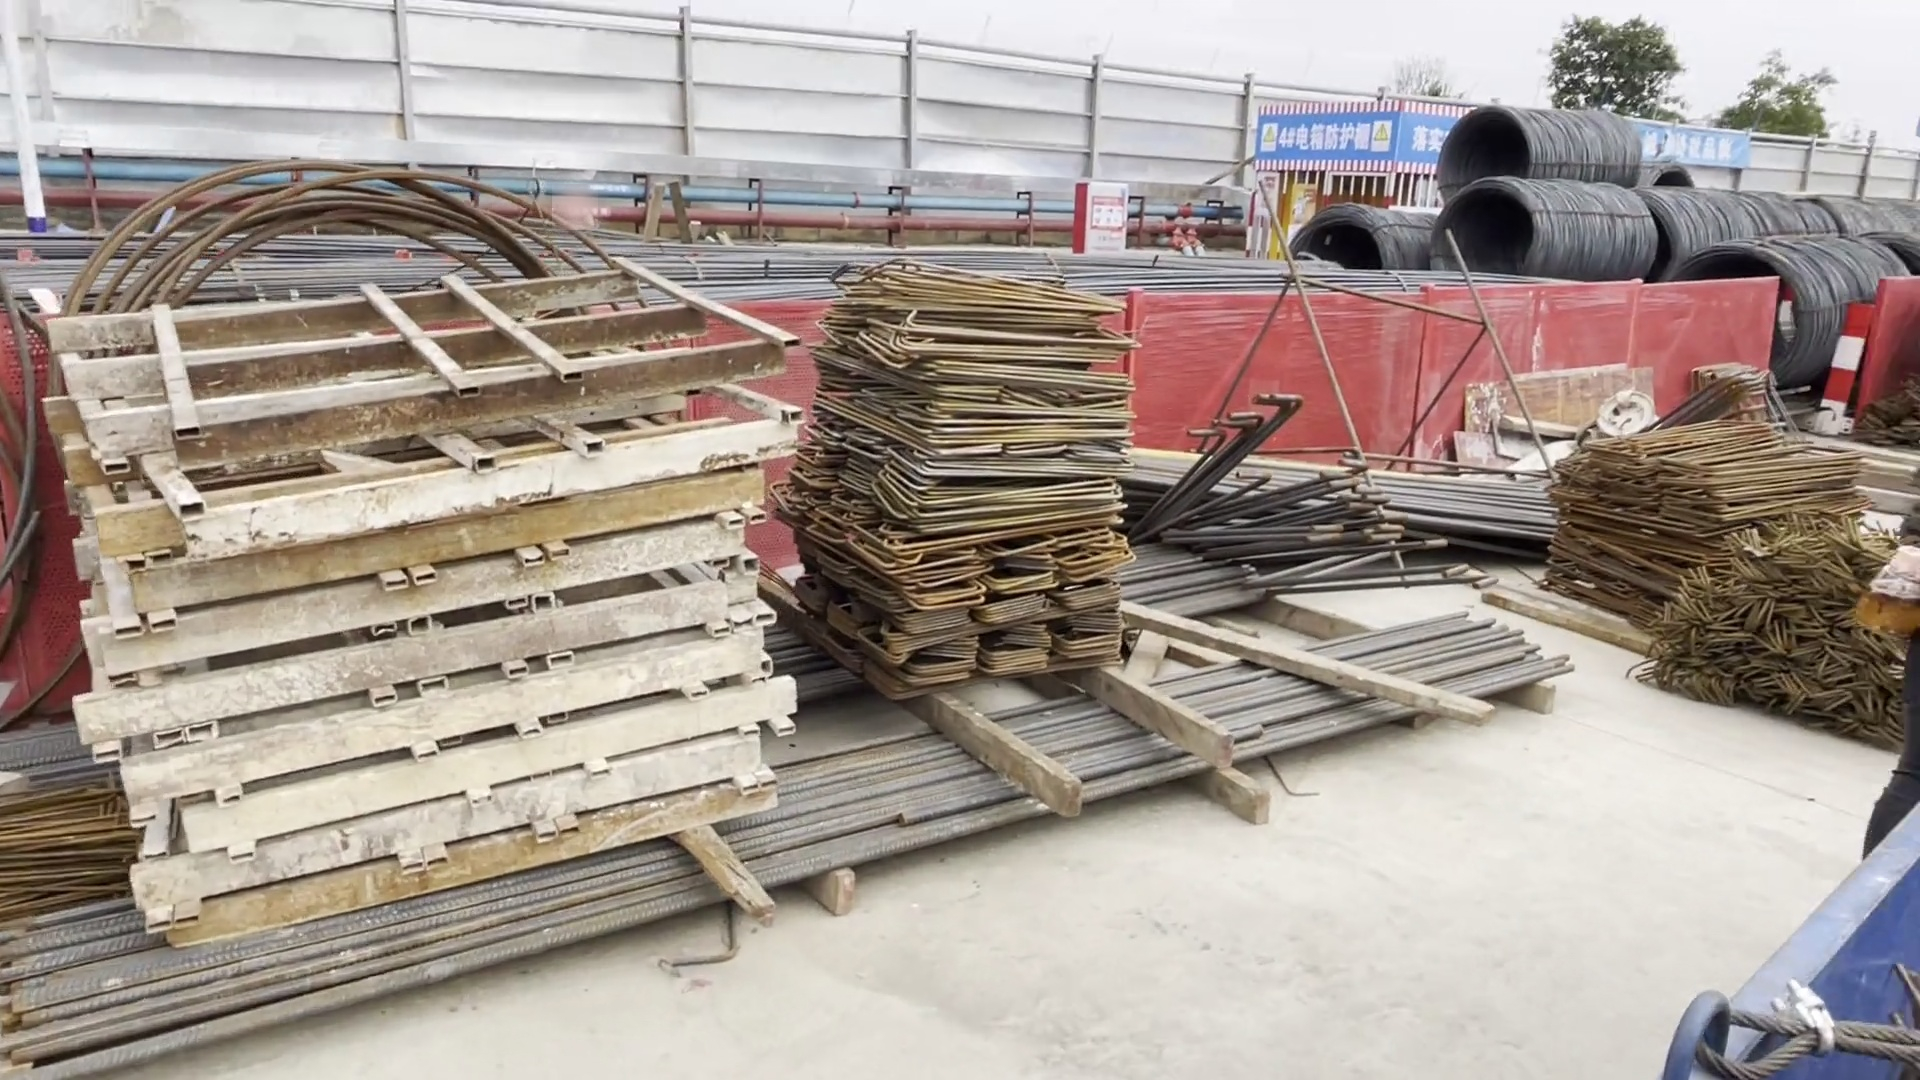fence: (18, 4, 1189, 189)
hopper: (1654, 785, 1920, 1080)
rebar: (11, 599, 1538, 1047), (1146, 423, 1563, 551)
slogan: (1246, 121, 1394, 160), (1636, 125, 1738, 171)
